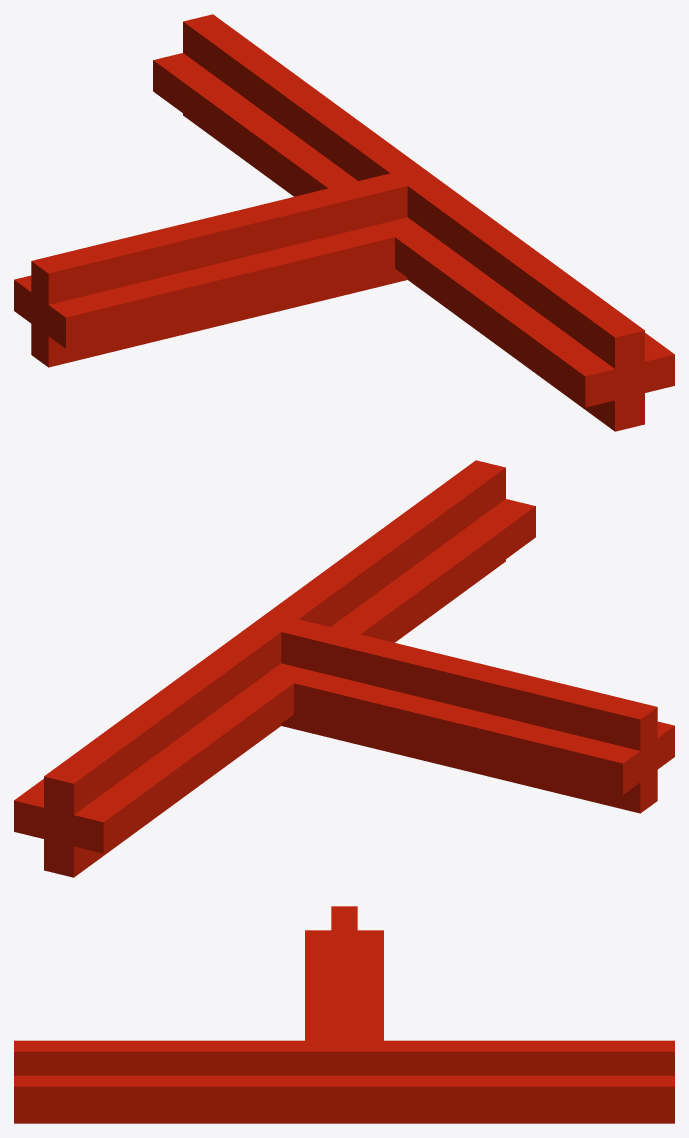
The model's file is wire_fork.dae.
3 renders of one model, top to bottom at view 1: azimuth 30°, elevation 25°; view 2: azimuth 150°, elevation 25°; view 3: azimuth 270°, elevation 25°, orthographic. The views are drawn at different scales.
Parts seen in each view (by area): view 1: wire_fork; view 2: wire_fork; view 3: wire_fork.
Part boxes in pixels (bbox=[...]): wire_fork: bbox=[14, 14, 674, 431]; wire_fork: bbox=[14, 460, 674, 877]; wire_fork: bbox=[14, 906, 674, 1123].
Size of the model in its own units: 14 by 25 by 3.
